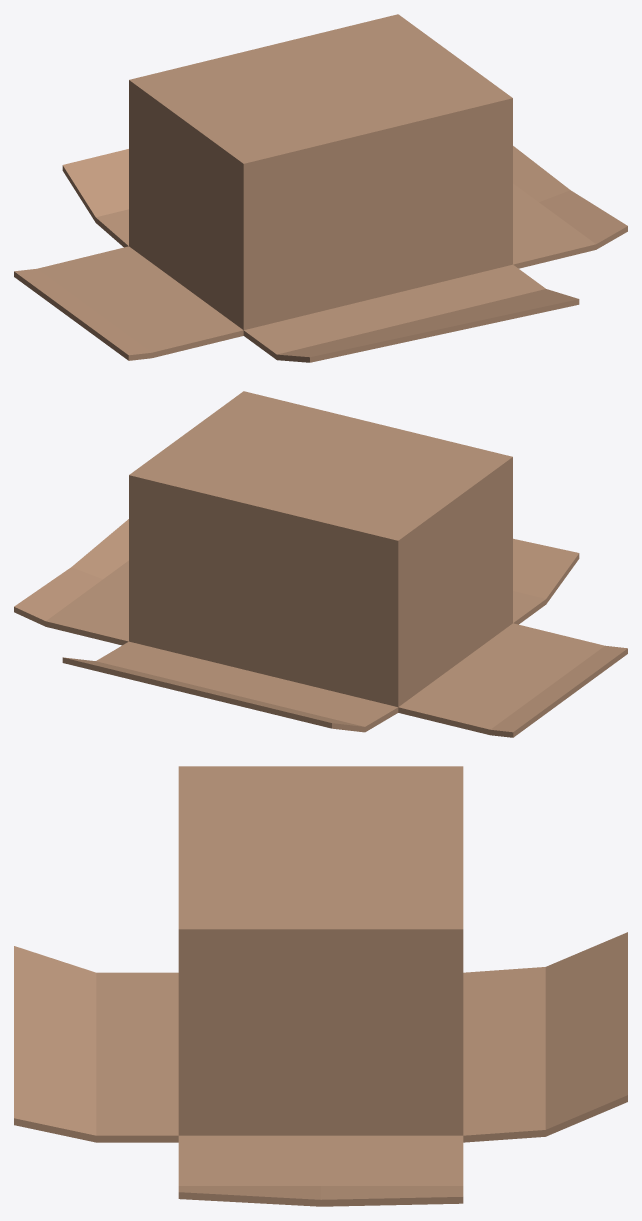
The model's file is Cardboard Box 3.fbx.
The picture shows the model from 3 angles, top to bottom: view 1: azimuth 30°, elevation 25°; view 2: azimuth 150°, elevation 25°; view 3: azimuth 270°, elevation 25°; orthographic projection. The views are drawn at different scales.
Parts seen in each view (by area): view 1: Cardboard_Box; view 2: Cardboard_Box; view 3: Cardboard_Box.
Boxes of the visible parts, <box> form: Cardboard_Box: <box>14,14,627,362</box>; Cardboard_Box: <box>14,391,627,737</box>; Cardboard_Box: <box>14,766,627,1206</box>.
Size of the model in its own units: 90.56 by 29.81 by 77.76.
